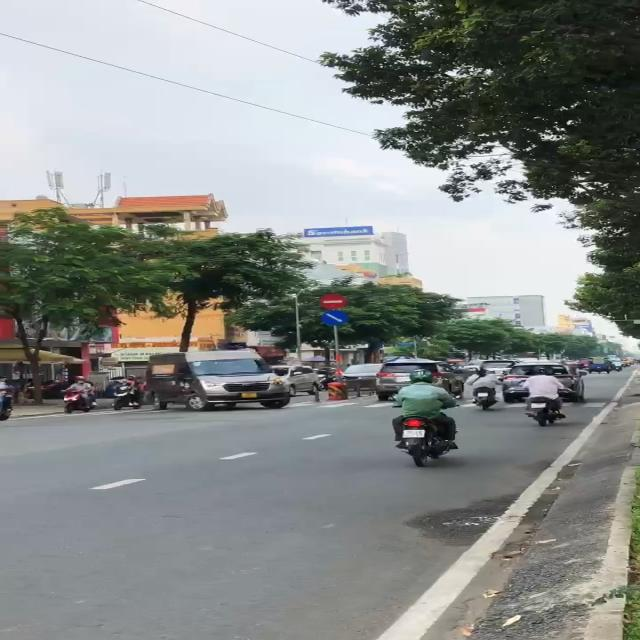Bien bao cam di nguoc chieu: (317, 293, 351, 309)
Bien bao huong phai di vong chuong ngai vat: (317, 308, 353, 326)
